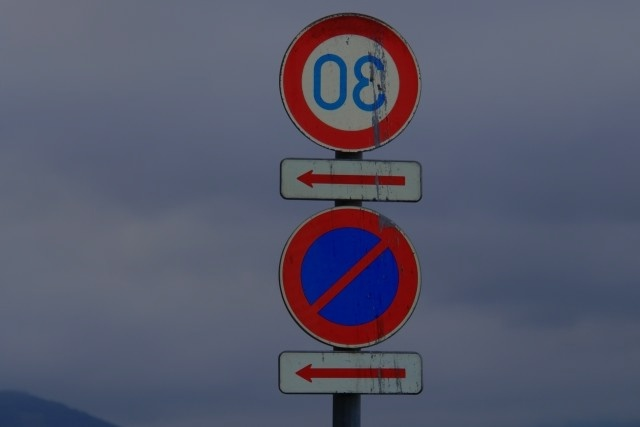Prohibition_sign: (271, 206, 426, 358)
